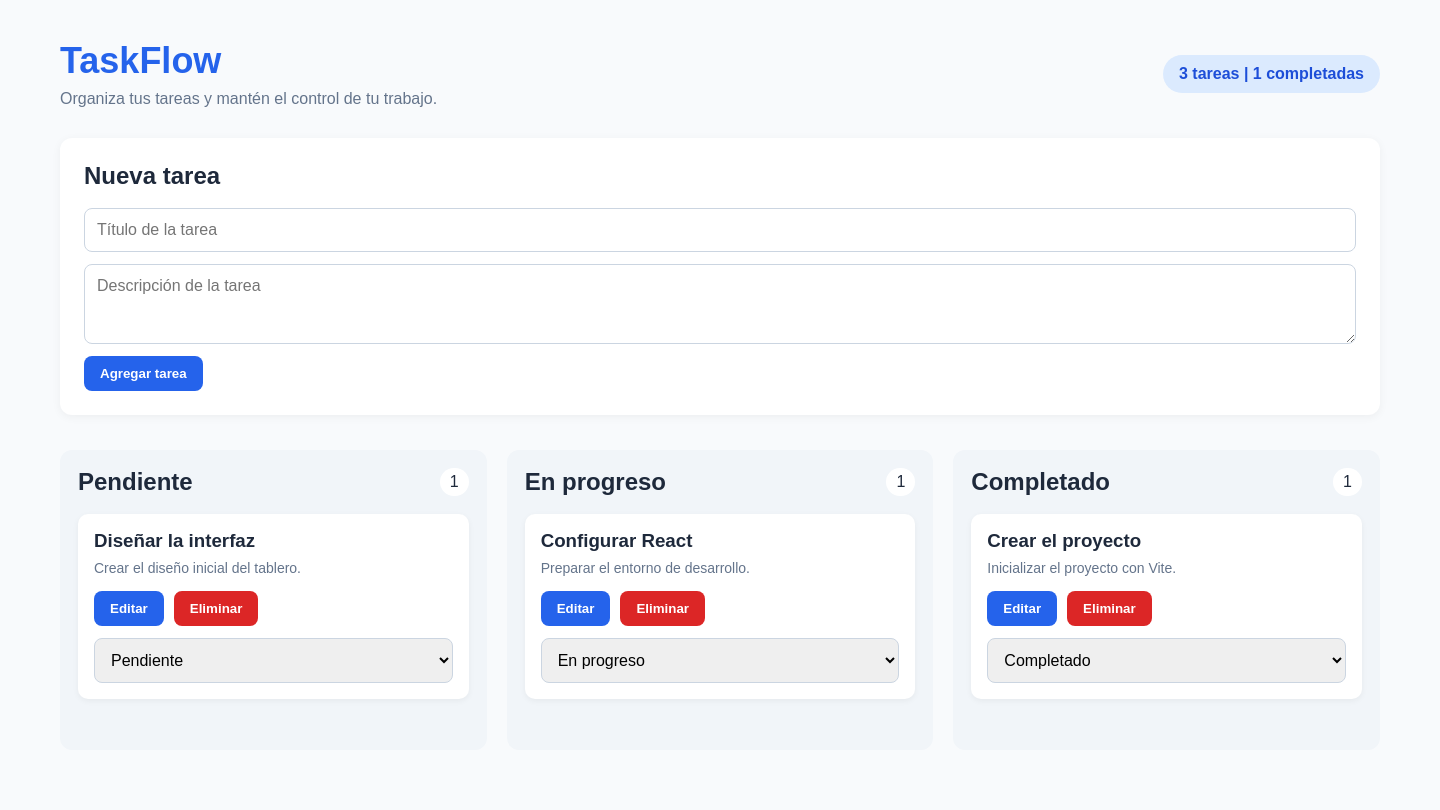
Test: Pruebas de la aplicación TaskFlow › debe permitir eliminar una tarea
Click the button "Eliminar" below "Crear el diseño inicial del tablero.".
click(216, 608)  # box [174,591,258,626]
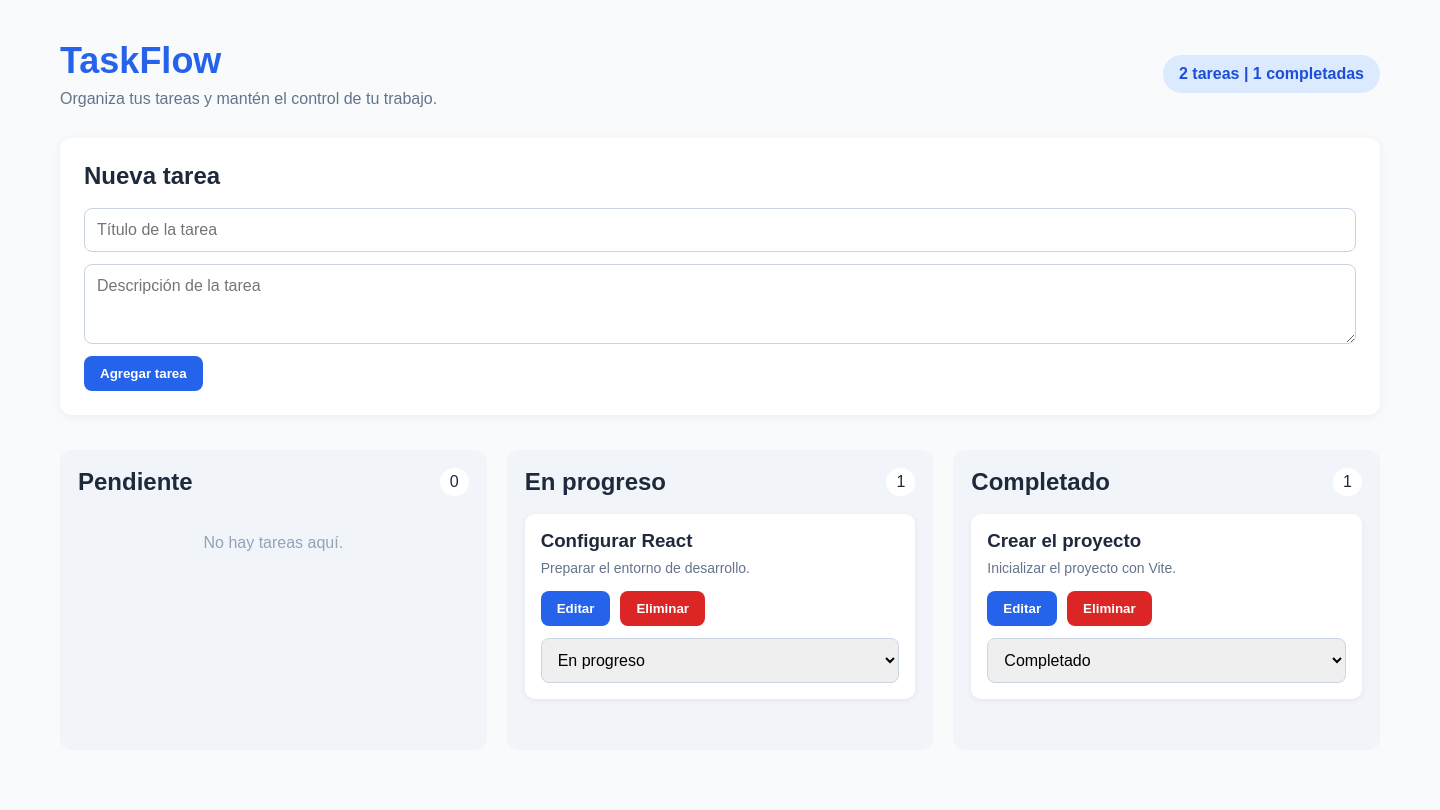
Result: the heading "Diseñar la interfaz" is gone
